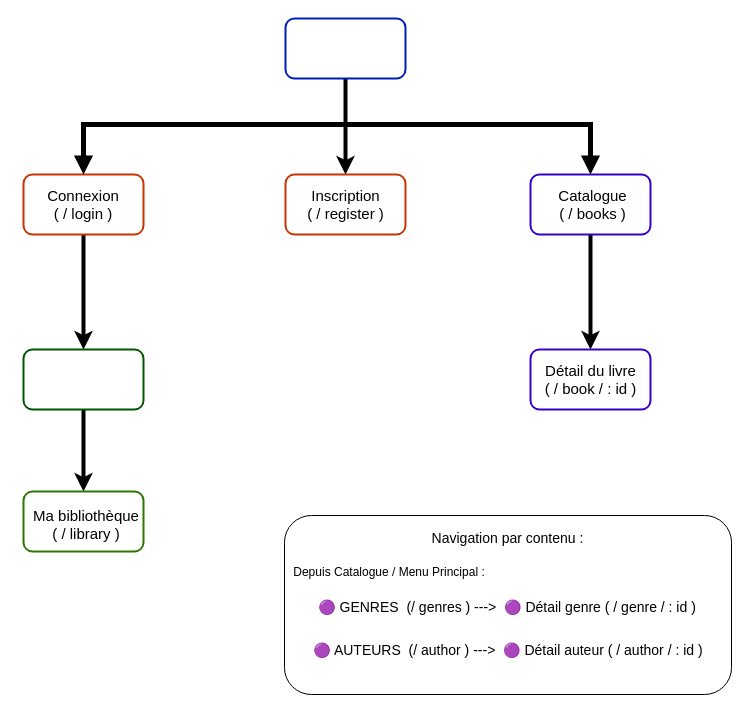
This 749x712 diagram has some shape labels left out. Each missing label, with the centre of its shape:
Accueil ( / ): the point at 345,48
Profil utilisateur ( / profile ): the point at 83,379
